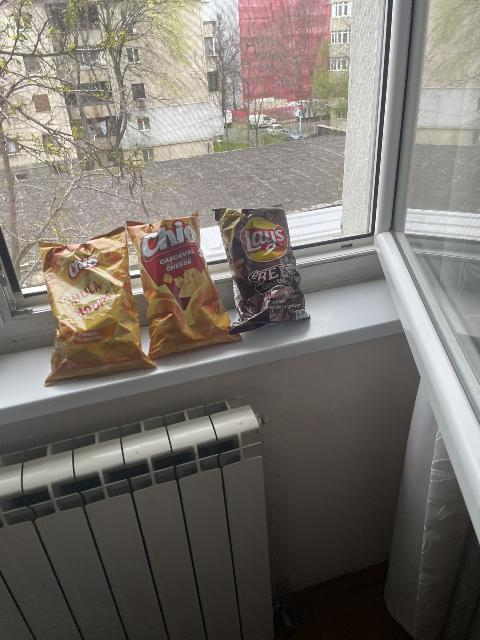Chio Cascaval 125g: (130, 211, 245, 358)
Chio Hula Hoops Cheese 70g: (36, 226, 156, 384)
Lays Beef Grilled Ribs 125g: (218, 205, 310, 333)
